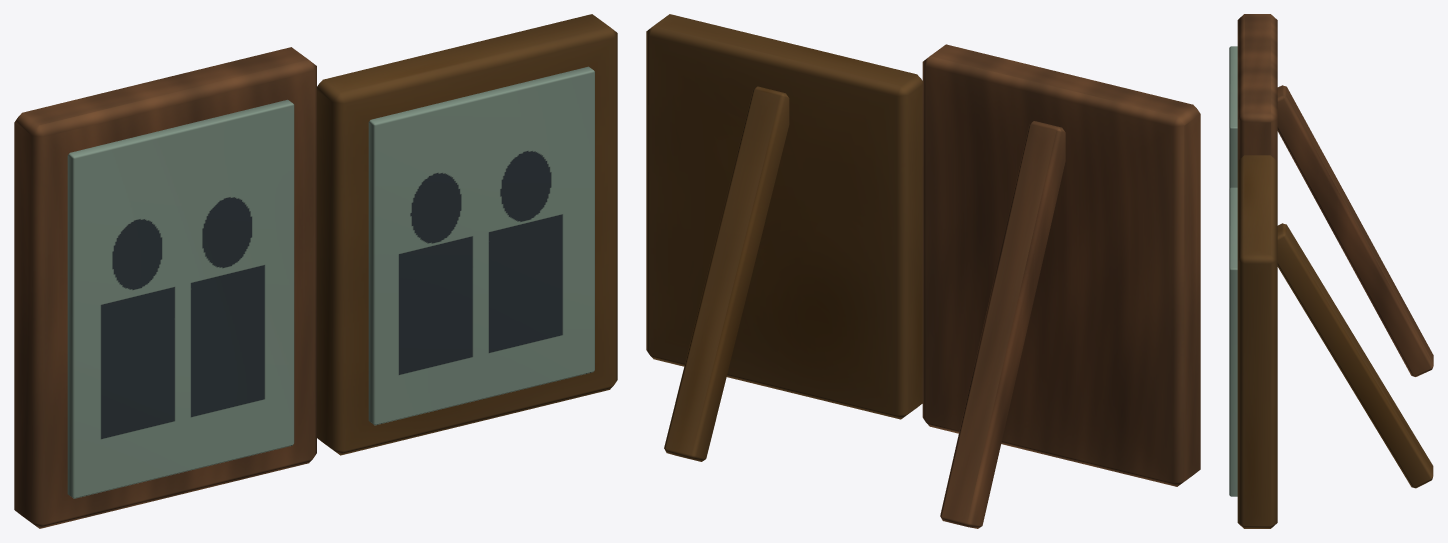
Rendered from Furn_Desk_PhotoFrame.fbx.
The picture shows the model from 3 angles, left to right: view 1: azimuth 30°, elevation 25°; view 2: azimuth 150°, elevation 25°; view 3: azimuth 270°, elevation 25°; orthographic projection. The views are drawn at different scales.
Parts seen in each view (by area): view 1: Furn_Desk_PhotoFrame; view 2: Furn_Desk_PhotoFrame; view 3: Furn_Desk_PhotoFrame.
Part boxes in pixels (<box>): Furn_Desk_PhotoFrame: <box>14,14,617,528</box>; Furn_Desk_PhotoFrame: <box>646,14,1200,528</box>; Furn_Desk_PhotoFrame: <box>1229,14,1433,528</box>.
Bounding box in the file's own units: 0.3 × 0.2 × 0.12.
3 materials, 3 textured.
